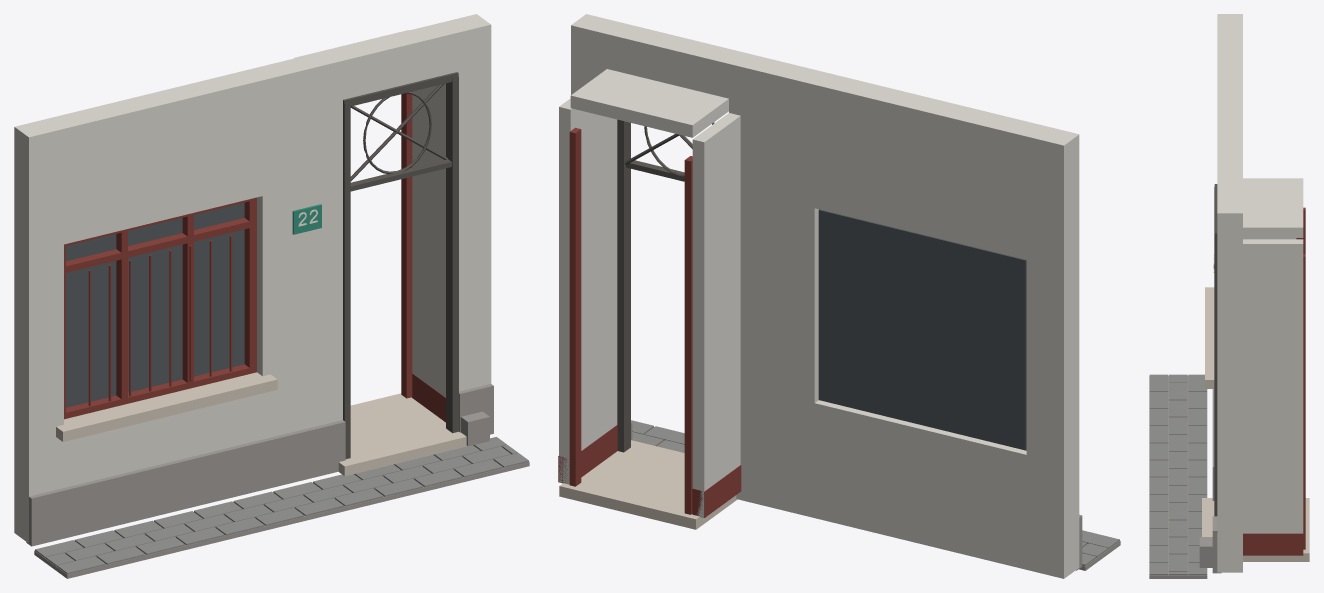
Rendered from jingan-mofan-village-no22-entrance-lod.glb.
3 views of the same model, side by side, from view 1: azimuth 30°, elevation 25°; view 2: azimuth 150°, elevation 25°; view 3: azimuth 270°, elevation 25° (orthographic). The views are drawn at different scales.
Parts seen in each view (by area): view 1: 模范邨22号冒广生旧居入口; view 2: 模范邨22号冒广生旧居入口; view 3: 模范邨22号冒广生旧居入口.
Boxes of the visible parts, x1,y1,x2,y2 form: 模范邨22号冒广生旧居入口: [14, 14, 529, 578]; 模范邨22号冒广生旧居入口: [558, 14, 1120, 578]; 模范邨22号冒广生旧居入口: [1149, 14, 1309, 578].
Size of the model in its own units: 3.68 by 3.14 by 1.25.
